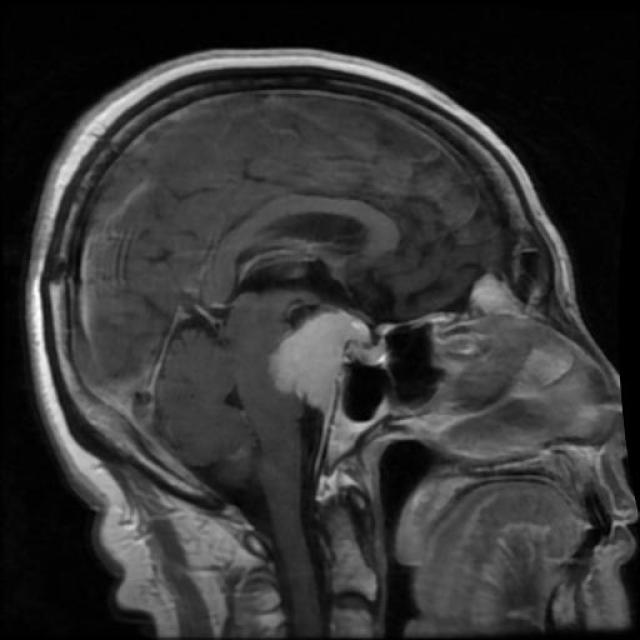meningioma: (268, 311, 372, 415)
